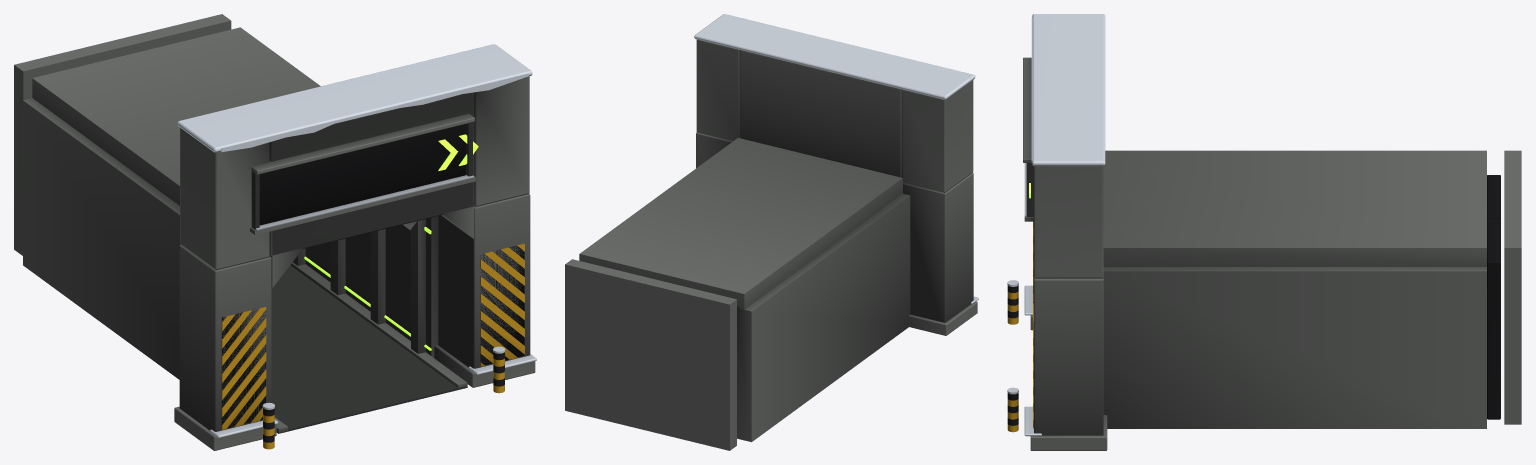
Rendered from gate_tunnel.glb.
3 views of the same model, side by side, from view 1: azimuth 30°, elevation 25°; view 2: azimuth 150°, elevation 25°; view 3: azimuth 270°, elevation 25° (orthographic). The views are drawn at different scales.
Parts seen in each view (by area): view 1: GateTunnel; view 2: GateTunnel; view 3: GateTunnel.
Part boxes in pixels (<box>): GateTunnel: <box>14,14,536,450</box>; GateTunnel: <box>565,14,978,450</box>; GateTunnel: <box>1007,14,1521,450</box>.
Size of the model in its own units: 10.2 by 9.15 by 14.77.
